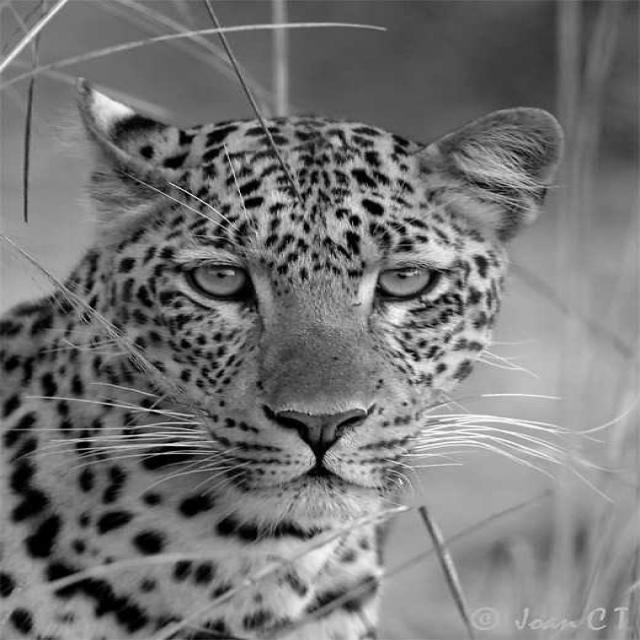Leopard: (31, 90, 606, 640)
